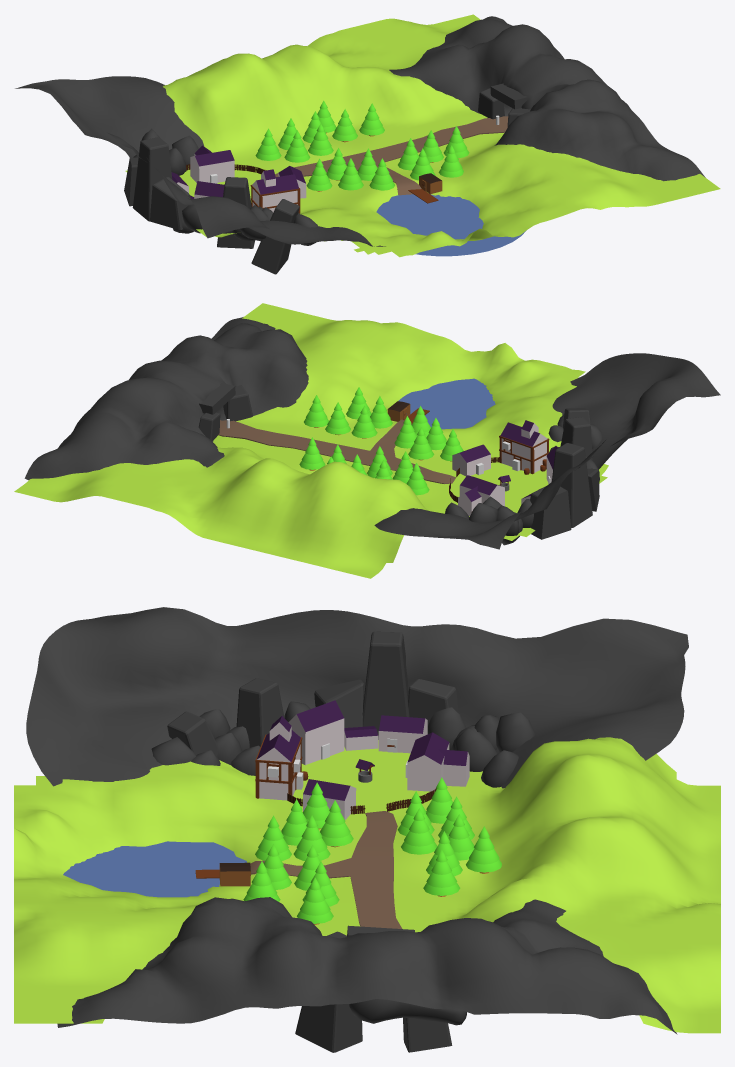
Rendered from blockout01.glb.
3 views of the same model, one above another, from view 1: azimuth 30°, elevation 25°; view 2: azimuth 150°, elevation 25°; view 3: azimuth 270°, elevation 25° (orthographic). The views are drawn at different scales.
Parts seen in each view (by area): view 1: Ground_col, Ground_Cave_Entrance_Rocks_col, Ground_Village_Rocks_col, Lake, Path_col, Cube_col.001, Cube_col.004, Cube_col.003, house_col.001, house_col.004, Cube_col.005, Cube_col (+4 smaller); view 2: Ground_col, Ground_Cave_Entrance_Rocks_col, Ground_Village_Rocks_col, Lake, Path_col, Cube_col.001, Cube_col.002, house_col.004, Cube_col.005, house_col, house_col.001, Cube_col.006 (+3 smaller); view 3: Ground_col, Ground_Village_Rocks_col, Ground_Cave_Entrance_Rocks_col, Lake, Path_col, Cube_col.001, house_col (×3), Cube_col.006, house_col.003, Cube_col.005, house_col.004, house_col.001 (+10 smaller).
Boxes of the visible parts, box(x1,y1,x2,y2) form: Ground_col: box(125, 14, 720, 257); Ground_Cave_Entrance_Rocks_col: box(389, 16, 705, 181); Ground_Village_Rocks_col: box(15, 76, 385, 246); Lake: box(376, 194, 526, 256); Path_col: box(275, 116, 508, 195); Cube_col.001: box(132, 137, 172, 221); Cube_col.004: box(251, 199, 299, 274); Cube_col.003: box(150, 177, 190, 229); house_col.001: box(190, 150, 234, 182); house_col.004: box(252, 174, 299, 212); Cube_col.005: box(217, 177, 255, 248); Cube_col: box(490, 83, 527, 109); Ground_col: box(14, 303, 608, 578); Ground_Cave_Entrance_Rocks_col: box(24, 317, 308, 480); Ground_Village_Rocks_col: box(374, 353, 720, 549); Lake: box(398, 378, 495, 429); Path_col: box(218, 419, 455, 483); Cube_col.001: box(551, 443, 592, 527); Cube_col.002: box(530, 486, 571, 539); house_col.004: box(500, 422, 547, 473); Cube_col.005: box(560, 417, 592, 460); house_col: box(452, 444, 490, 476); house_col.001: box(459, 475, 504, 506); Cube_col.006: box(223, 385, 252, 421); Ground_col: box(14, 737, 720, 1033); Ground_Village_Rocks_col: box(26, 607, 688, 788); Ground_Cave_Entrance_Rocks_col: box(57, 897, 677, 1034); Lake: box(63, 841, 246, 897); Path_col: box(250, 811, 402, 928); Cube_col.001: box(362, 631, 409, 736); house_col (×3): box(219, 715, 427, 886); Cube_col.006: box(295, 931, 362, 1052); house_col.003: box(288, 700, 344, 765); Cube_col.005: box(236, 678, 284, 747); house_col.004: box(256, 730, 300, 800); house_col.001: box(407, 732, 449, 791).
Size of what is drawn, in the model's own units: 115 by 27.21 by 100.
